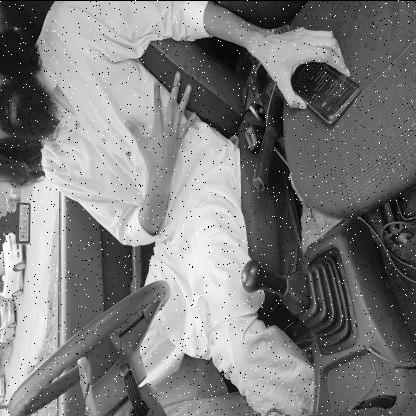no_seatbelt: (0, 29, 165, 216)
